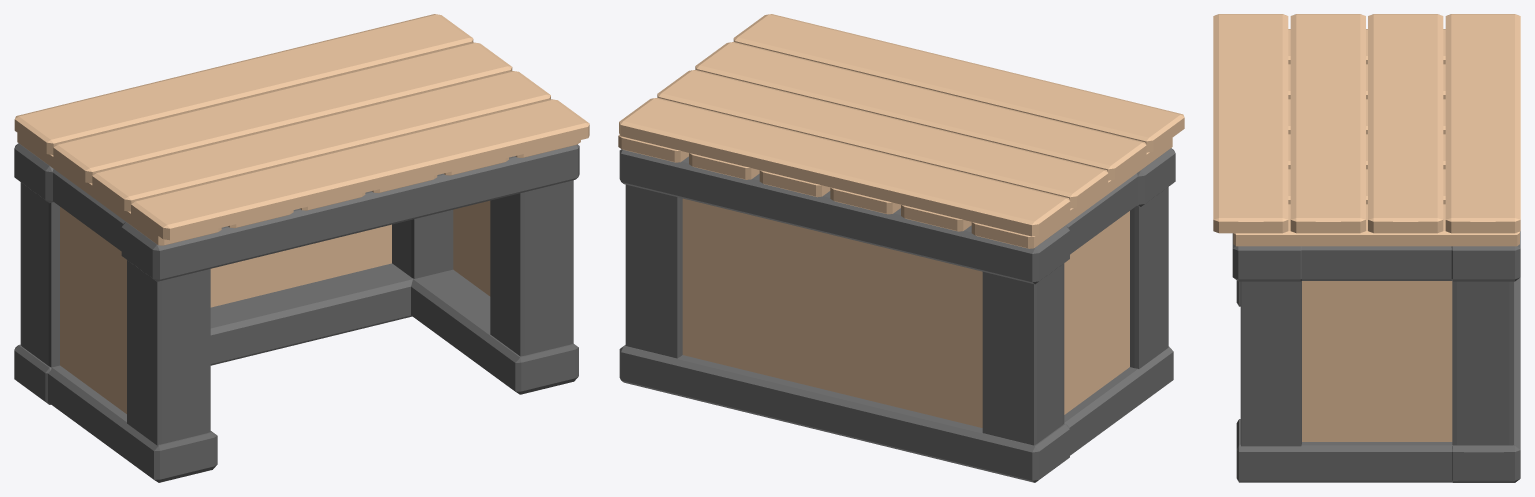
Rendered from workbench-1.fbx.
3 views of the same model, side by side, from view 1: azimuth 30°, elevation 25°; view 2: azimuth 150°, elevation 25°; view 3: azimuth 270°, elevation 25° (orthographic).
Parts seen in each view (by area): view 1: Cube.102; view 2: Cube.102; view 3: Cube.102.
Part boxes in pixels (x1,y1,x2,y2): Cube.102: [14, 14, 589, 482]; Cube.102: [618, 14, 1184, 482]; Cube.102: [1213, 14, 1520, 482].
Bounding box in the file's own units: 120 × 71.4 × 75.
